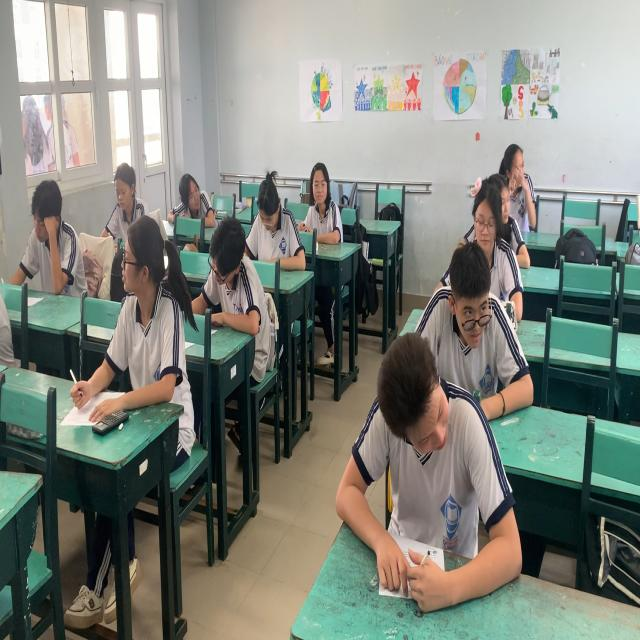cheating: (120, 219, 177, 409), (163, 152, 216, 225)
not_cheating: (365, 350, 476, 578), (436, 243, 516, 405), (19, 178, 87, 309), (464, 181, 520, 329), (248, 164, 307, 277), (208, 218, 258, 333), (503, 128, 540, 232), (299, 160, 334, 247), (105, 164, 144, 211)
